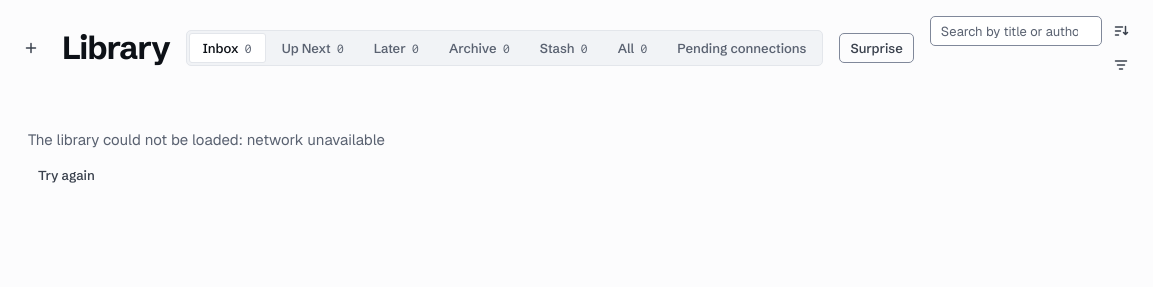
Test: LibraryView while it waits, finds nothing, or fails › says why it could not load, and reads again when asked
Expected: the message with class "library-error" shows "The library could not be loaded: network unavailable", [28,130,385,149]
Click the button "Try again" at (66, 175), box [28,160,105,190]
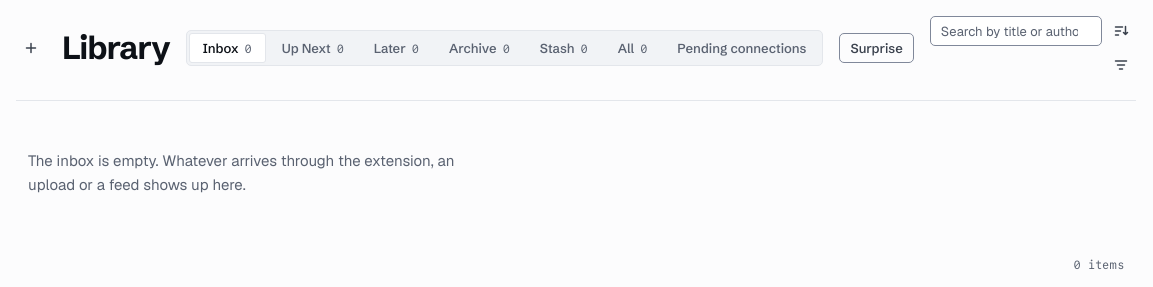
Now the text with class "library-empty" is shown, box [28,151,454,194]
